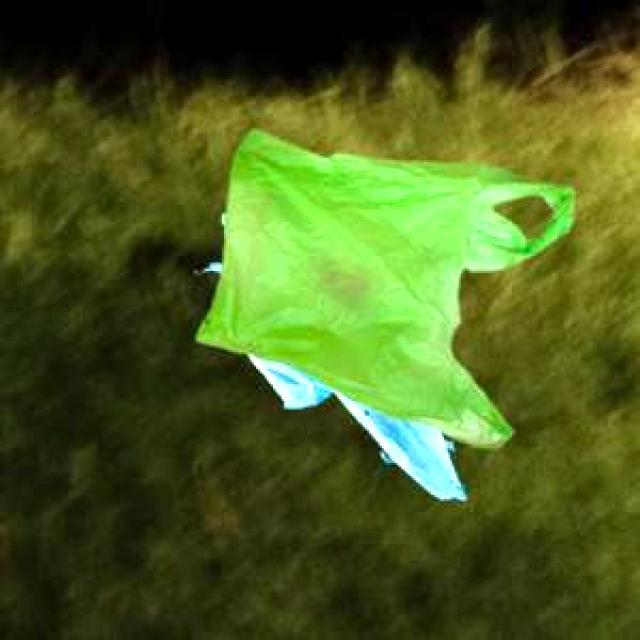Plastic_Bag: (193, 127, 571, 445), (203, 261, 463, 496)
